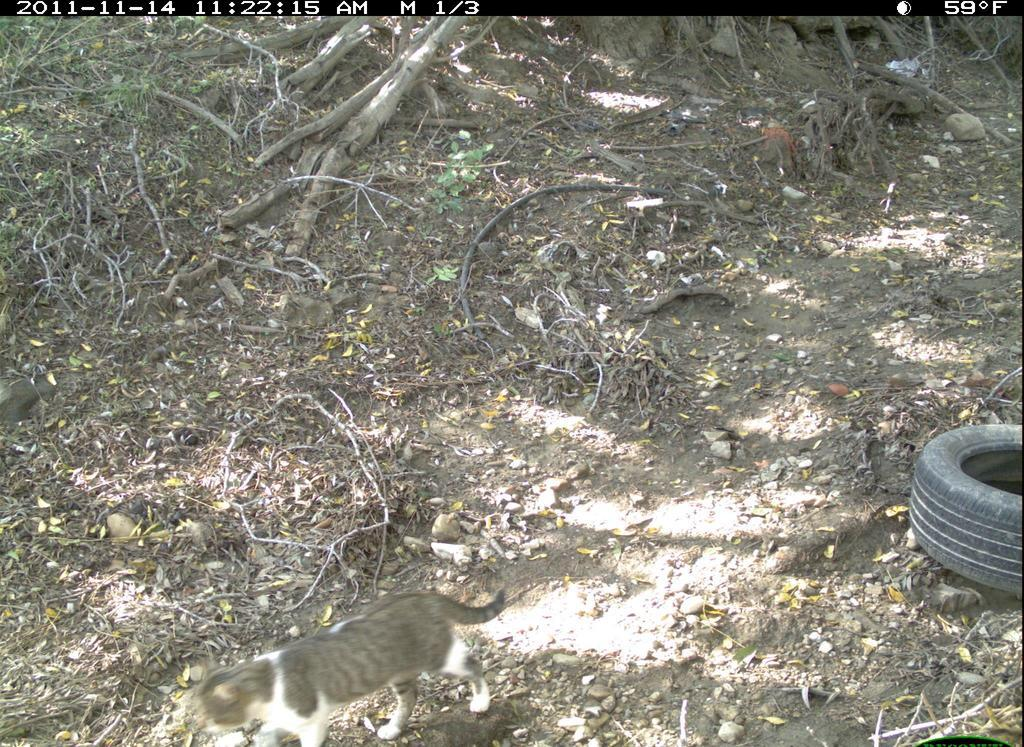cat: (169, 571, 537, 747)
